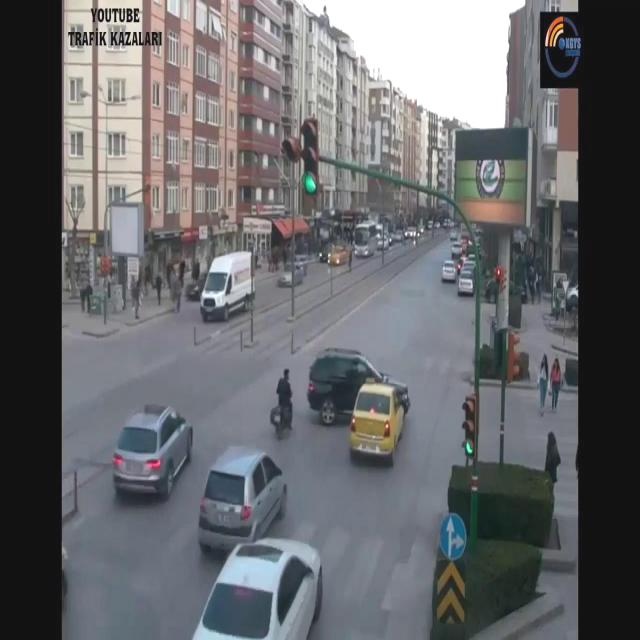accident: (306, 351, 410, 472)
non-accident: (110, 404, 288, 558), (194, 440, 326, 640), (318, 222, 378, 266), (442, 231, 482, 297), (354, 222, 392, 256)
